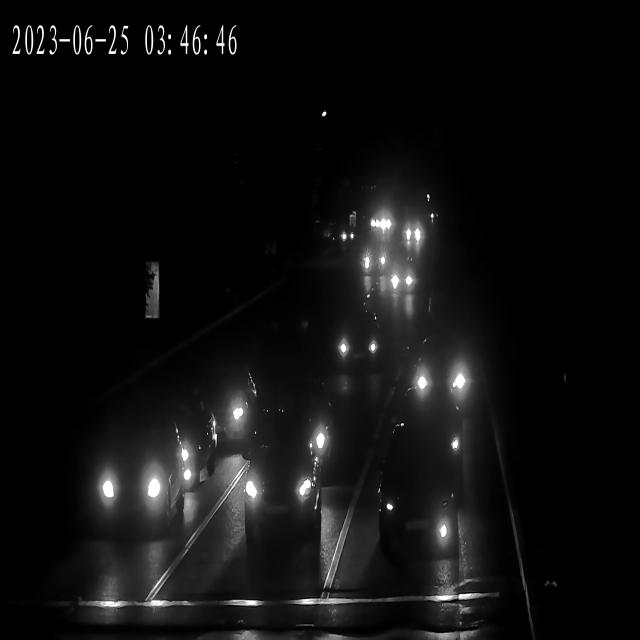Car: (89, 418, 185, 531), (372, 461, 462, 561), (254, 386, 341, 487), (242, 450, 323, 550), (151, 375, 219, 483), (180, 370, 257, 450), (401, 336, 477, 407), (329, 320, 382, 372), (360, 247, 392, 278), (386, 264, 418, 295), (370, 206, 392, 232), (401, 226, 425, 247)
